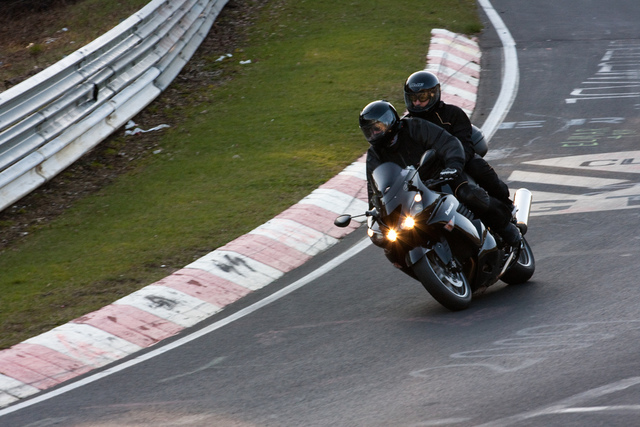helmet: (354, 102, 402, 146), (399, 74, 444, 109)
